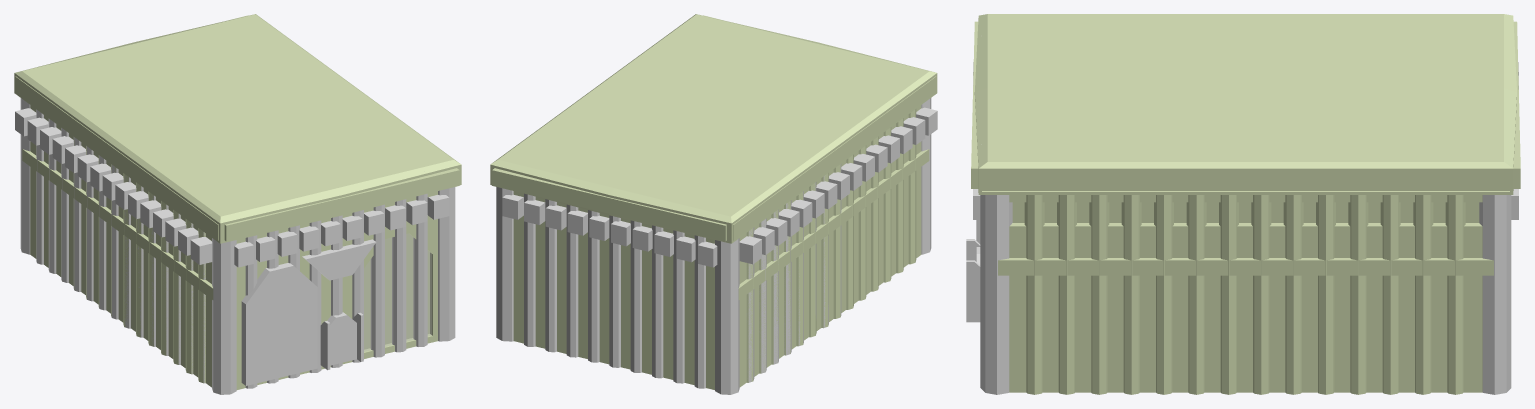
File: ParthenonArena.fbx
The picture shows the model from 3 angles, left to right: view 1: azimuth 30°, elevation 25°; view 2: azimuth 150°, elevation 25°; view 3: azimuth 270°, elevation 25°; orthographic projection. The views are drawn at different scales.
Visible parts, largest first — view 1: Parthenon, Front + Back, Left + Right, Stained Glass, Corner Columns, Windows.002, Windows.001, LR Insets, Insets, Big Glass, Walls.001, Inside (+3 smaller); view 2: Parthenon, Front + Back, Corner Columns, Windows.002, Windows.001, LR Insets, Left + Right, Insets, Walls.001; view 3: Parthenon, Corner Columns, Walls.001, Inside, LR Insets, RDoor, Windows.001.
Part boxes in pixels (x1=…): Parthenon: x1=14, y1=14, x2=461, y2=389; Front + Back: x1=245, y1=193, x2=427, y2=388; Left + Right: x1=36, y1=109, x2=205, y2=383; Stained Glass: x1=241, y1=263, x2=317, y2=385; Corner Columns: x1=20, y1=98, x2=455, y2=394; Windows.002: x1=15, y1=108, x2=212, y2=264; Windows.001: x1=234, y1=195, x2=449, y2=267; LR Insets: x1=224, y1=15, x2=459, y2=241; Insets: x1=15, y1=76, x2=218, y2=240; Big Glass: x1=364, y1=233, x2=431, y2=351; Walls.001: x1=22, y1=149, x2=213, y2=299; Inside: x1=364, y1=233, x2=429, y2=349; Parthenon: x1=490, y1=14, x2=937, y2=389; Front + Back: x1=524, y1=193, x2=705, y2=388; Corner Columns: x1=496, y1=98, x2=931, y2=394; Windows.002: x1=739, y1=107, x2=937, y2=264; Windows.001: x1=502, y1=194, x2=717, y2=267; LR Insets: x1=492, y1=15, x2=726, y2=241; Left + Right: x1=747, y1=164, x2=841, y2=382; Insets: x1=733, y1=76, x2=936, y2=240; Walls.001: x1=738, y1=149, x2=929, y2=299; Parthenon: x1=974, y1=14, x2=1516, y2=394; Corner Columns: x1=980, y1=195, x2=1511, y2=394; Walls.001: x1=998, y1=258, x2=1493, y2=275; Inside: x1=1012, y1=202, x2=1479, y2=222; LR Insets: x1=971, y1=21, x2=1520, y2=188; RDoor: x1=966, y1=260, x2=980, y2=322; Windows.001: x1=973, y1=62, x2=1518, y2=219.
Size of the model in its own units: 2269 by 1528 by 3329.
